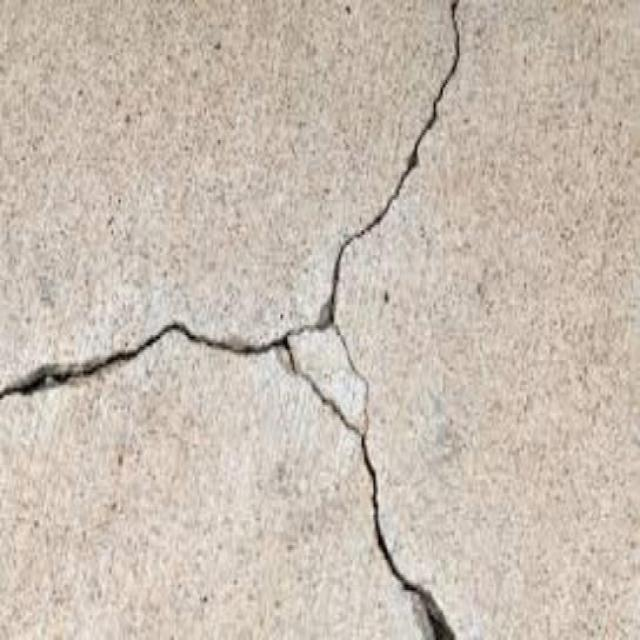Crack: (3, 6, 638, 634)
